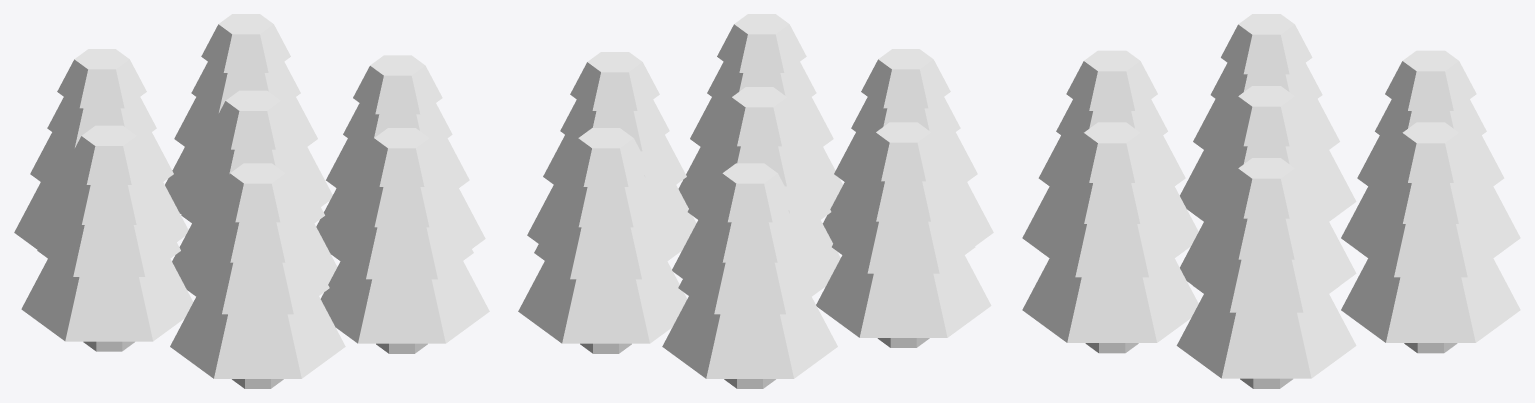
Rendered from Treegroup4.fbx.
The picture shows the model from 3 angles, left to right: view 1: azimuth 30°, elevation 25°; view 2: azimuth 150°, elevation 25°; view 3: azimuth 270°, elevation 25°; orthographic projection. The views are drawn at different scales.
Visible parts, largest first — view 1: Cylinder.006; view 2: Cylinder.006; view 3: Cylinder.006.
Boxes of the visible parts, bbox=[...] form: Cylinder.006: bbox=[14, 14, 489, 388]; Cylinder.006: bbox=[518, 14, 993, 388]; Cylinder.006: bbox=[1022, 14, 1520, 388].
Bounding box in the file's own units: 1011 × 474 × 1015.
